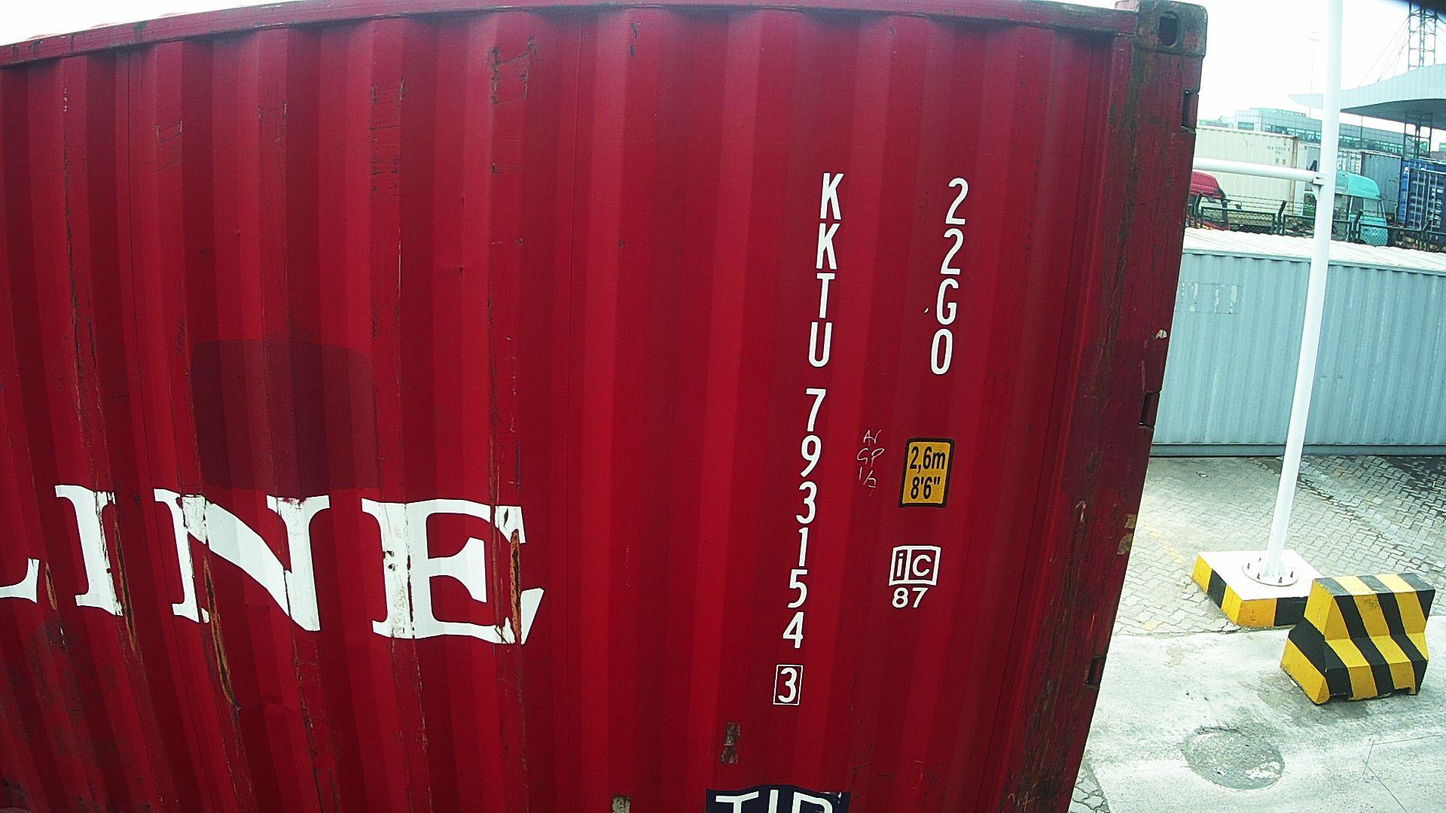container-numbers: (767, 166, 850, 709), (923, 175, 973, 383)
